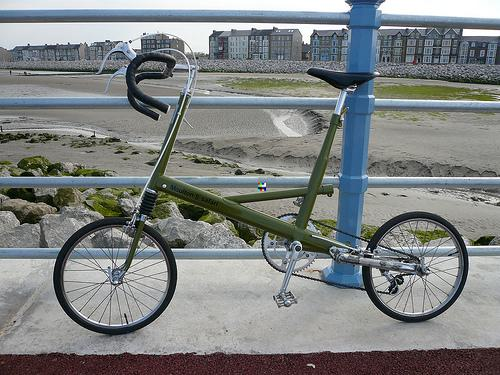car: (54, 39, 471, 336)
